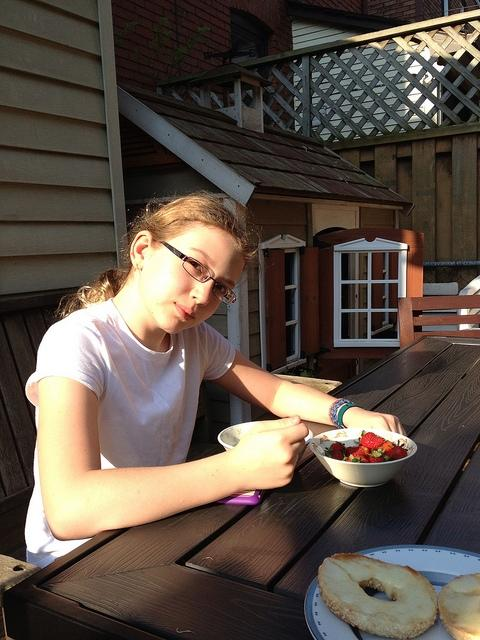strawberry: (324, 444, 344, 460), (387, 446, 407, 461), (345, 453, 370, 463), (346, 446, 366, 458), (382, 440, 396, 456), (370, 454, 392, 464), (360, 432, 377, 444), (330, 441, 346, 452)
